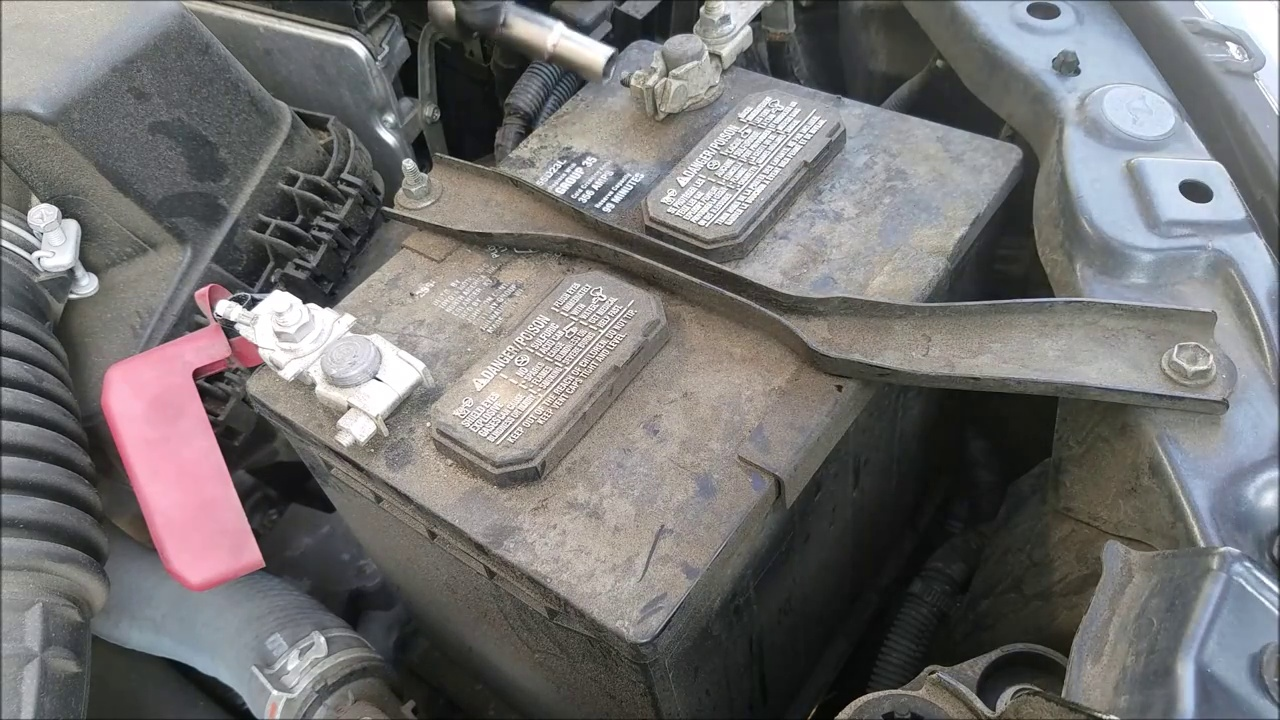battery: (208, 11, 951, 543)
neg_connected: (627, 1, 765, 139)
pos_connected: (132, 275, 464, 460)
